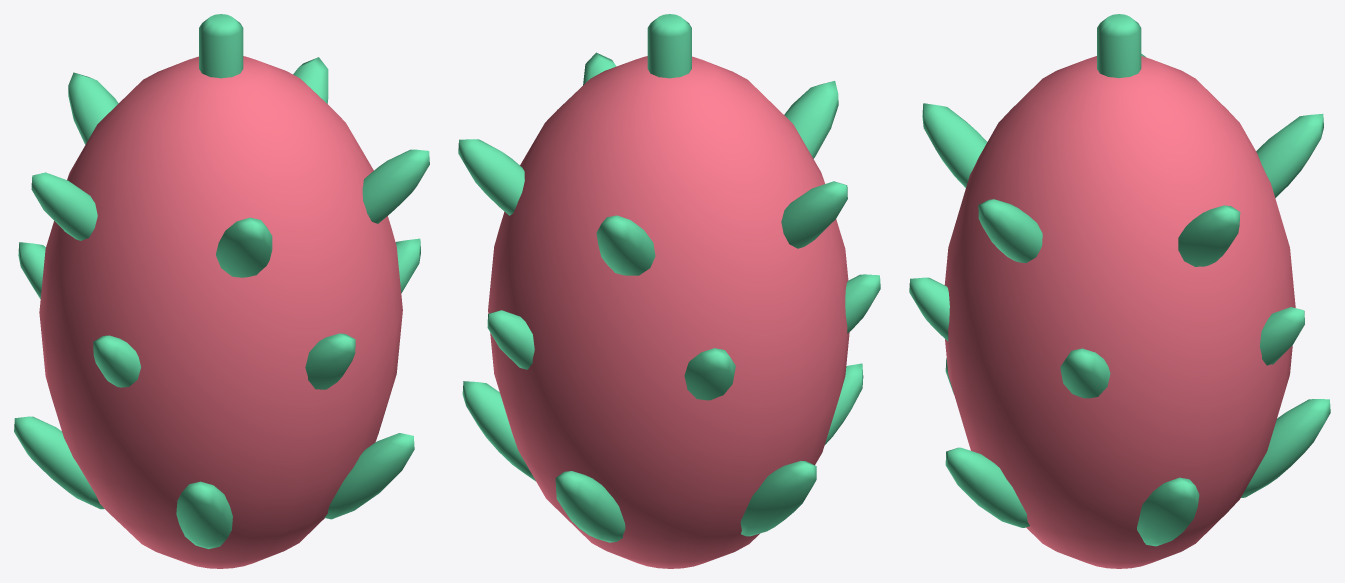
File: dragonfruit.glb
3 renders of one model, left to right at view 1: azimuth 30°, elevation 25°; view 2: azimuth 150°, elevation 25°; view 3: azimuth 270°, elevation 25°, orthographic.
Visible parts, largest first — view 1: dragonfruit; view 2: dragonfruit; view 3: dragonfruit.
Boxes of the visible parts, x1=… form: dragonfruit: x1=14, y1=14, x2=429, y2=568; dragonfruit: x1=458, y1=14, x2=880, y2=568; dragonfruit: x1=909, y1=14, x2=1330, y2=568.
Size of the model in its own units: 0.7057 by 1 by 0.7099.
Materials: 1 (1 with a texture image).
